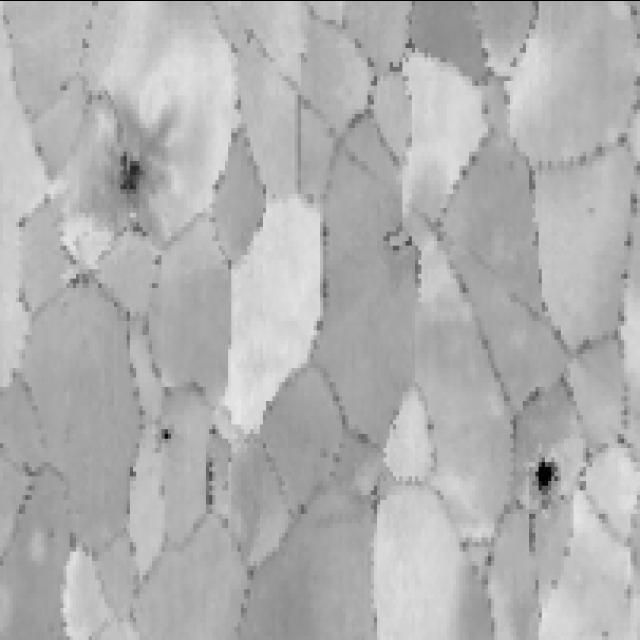good_void: (528, 428, 567, 550), (191, 429, 221, 514), (114, 142, 146, 212), (157, 416, 173, 448)
